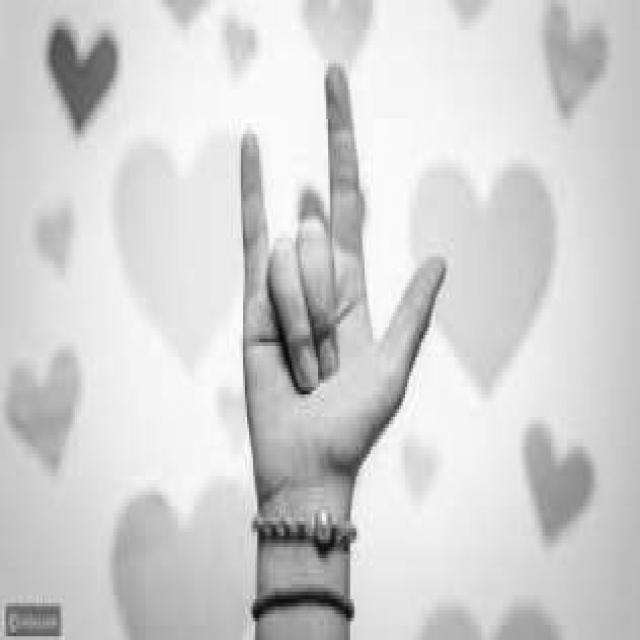i love you: (232, 54, 453, 497)
